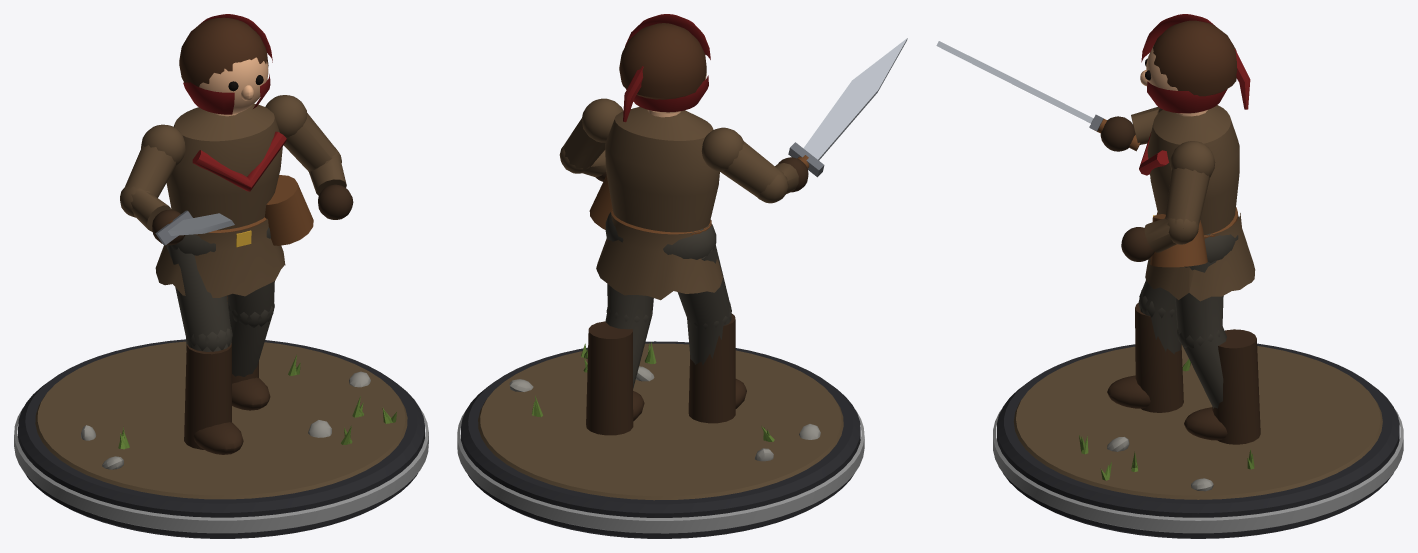
Rendered from bandit.glb.
The picture shows the model from 3 angles, left to right: view 1: azimuth 30°, elevation 25°; view 2: azimuth 150°, elevation 25°; view 3: azimuth 270°, elevation 25°; orthographic projection.
Parts seen in each view (by area): view 1: bandit; view 2: bandit; view 3: bandit.
Part boxes in pixels (box(x1,y1,x2,y2)): bandit: box(14, 14, 428, 538); bandit: box(457, 14, 907, 538); bandit: box(936, 14, 1403, 538).
Bounding box in the file's own units: 0.856 × 1.01 × 0.9729.
